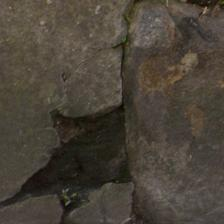Crack: (63, 0, 164, 70), (17, 43, 119, 92)
